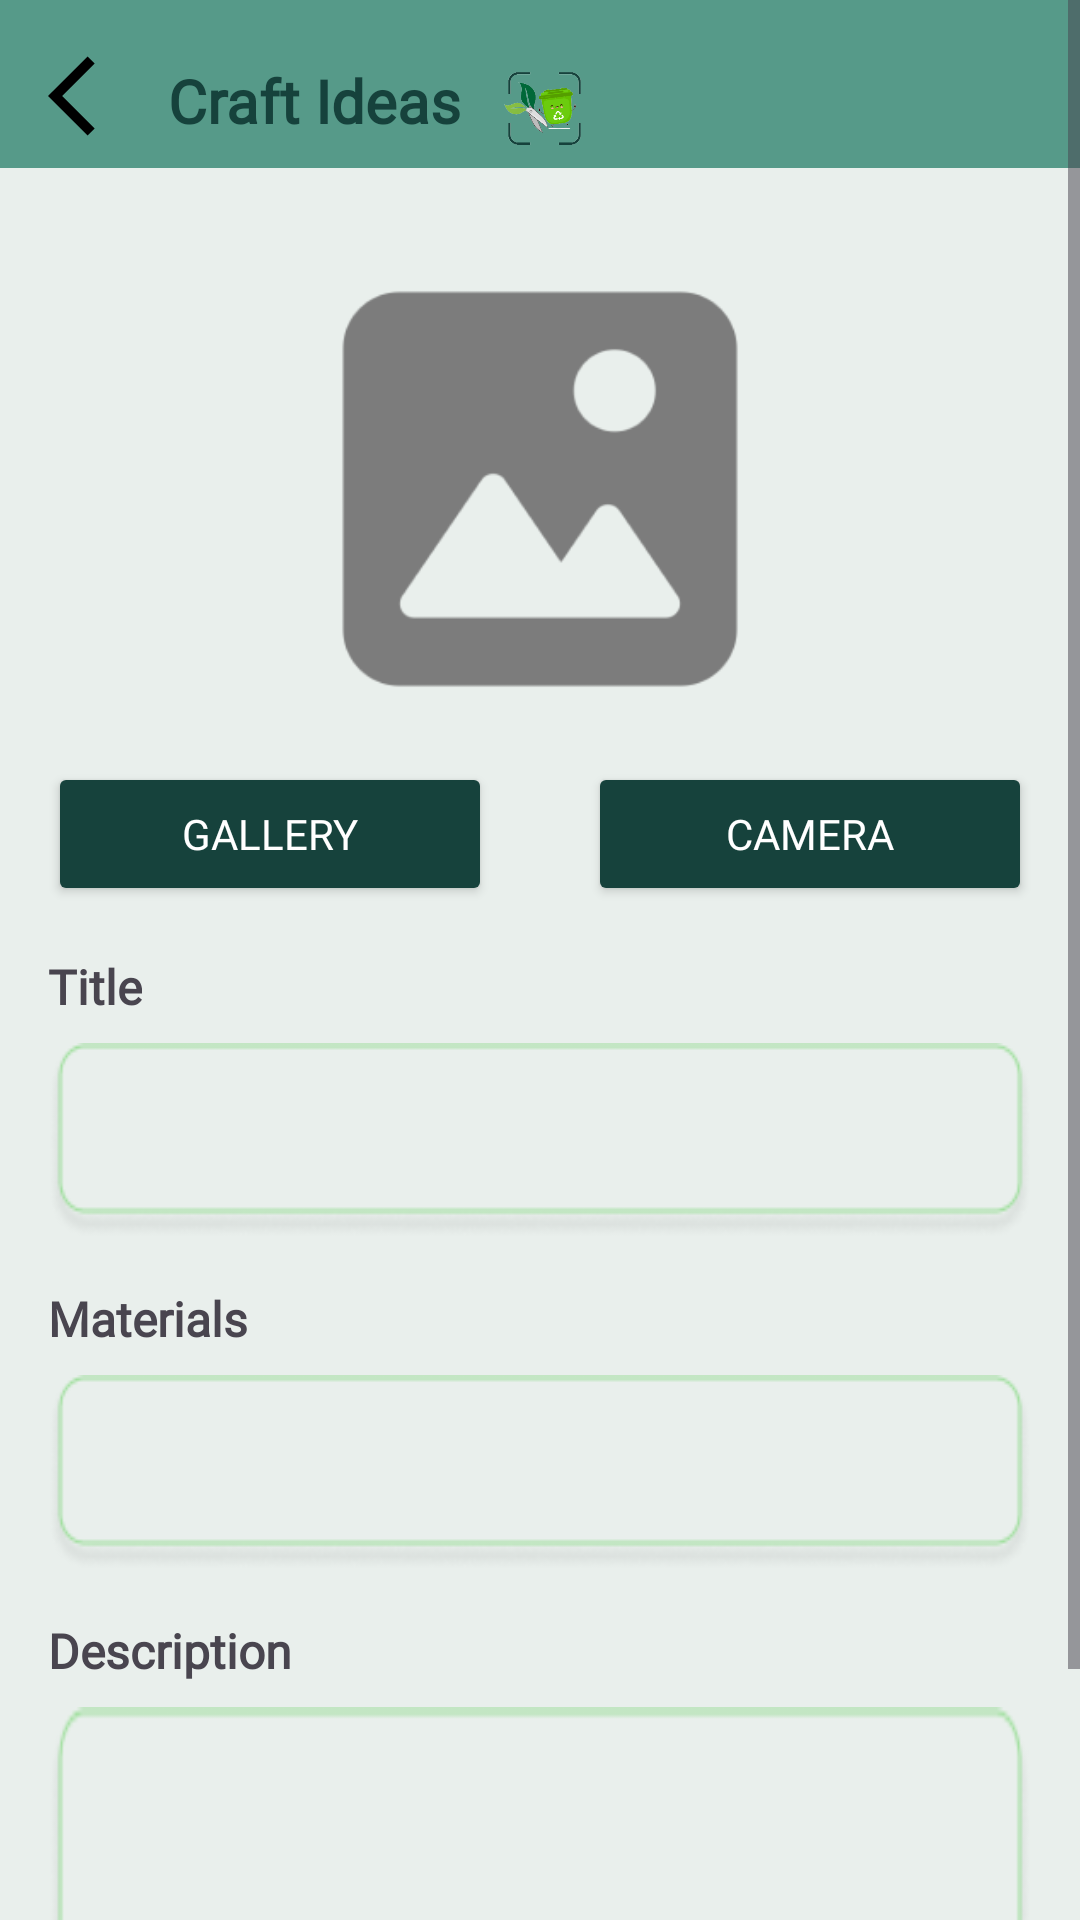

Screen size 1080x1920. Icon name, then its box in pixels as (x1, y1, x2, y2):
Back: (48, 56, 95, 136)
